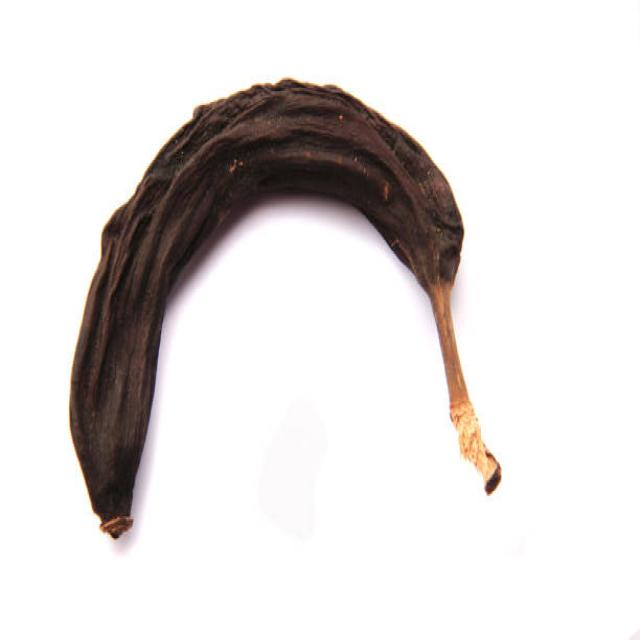Rotten: (66, 75, 501, 541)
